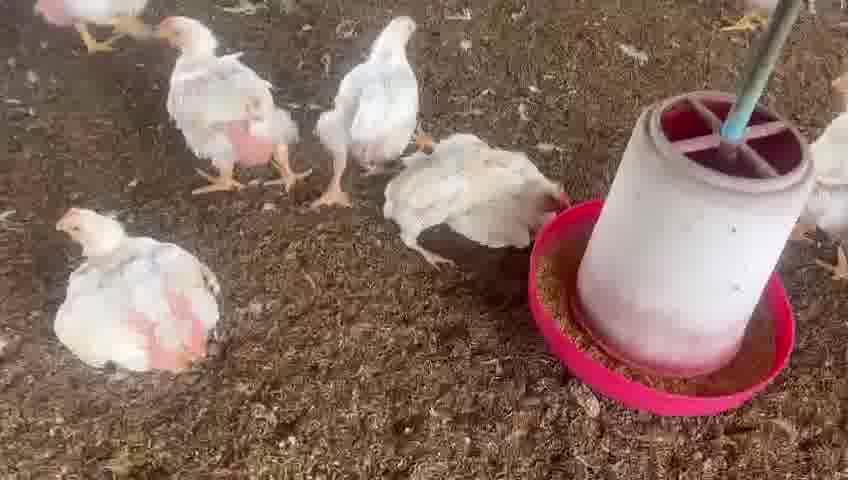AbNormal: (54, 205, 214, 374), (388, 132, 572, 266)
Normal: (158, 18, 301, 195), (313, 13, 420, 214)
